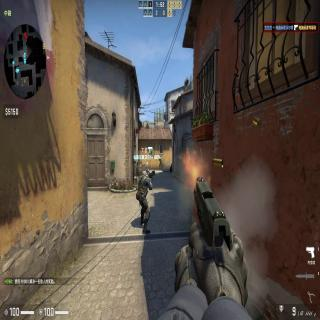CT-Body: (135, 167, 155, 234)
